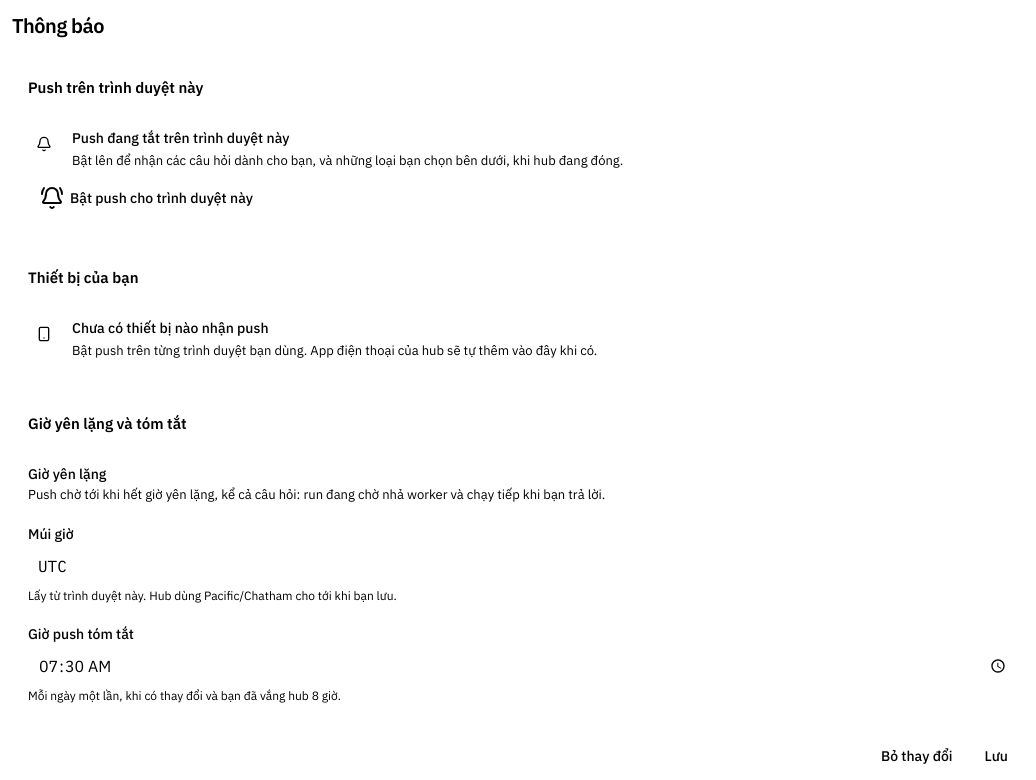
Scenario: push on this browser › asks again when the prompt was dismissed, and shows why a subscription failed
What coordinates should you click on to do the following:
click the button with test id "push-browser-on"
I would click on:
 (146, 198)
Its box is [28,182,265,214].
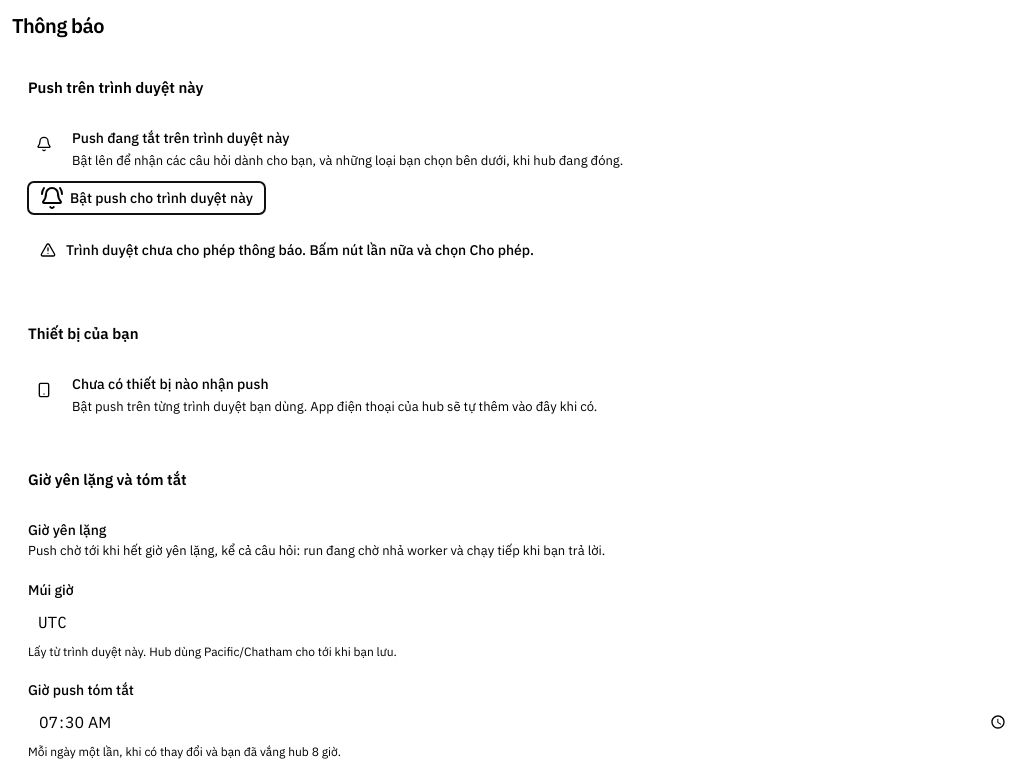
Now the message shows "Trình duyệt chưa cho phép thông báo", box [66,241,534,259]
What coordinates should you click on to do the following:
click the button with test id "push-browser-on"
I would click on:
 (146, 198)
Its box is [28,182,265,214].
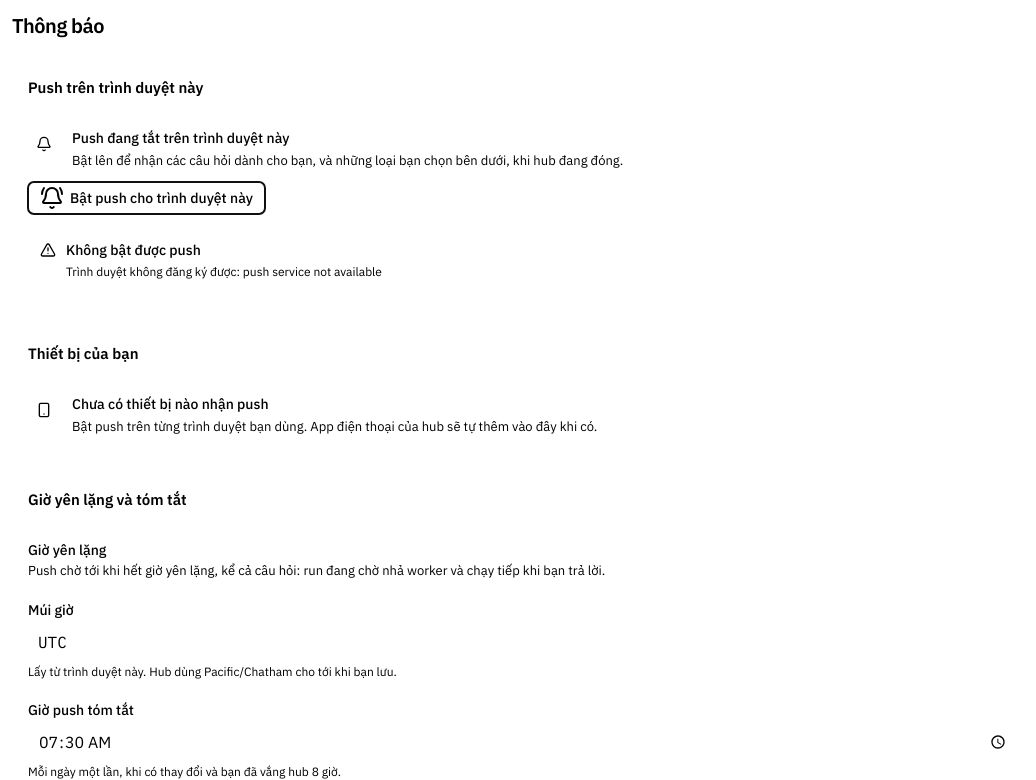
Now the text "Không bật được push" shows "Trình duyệt không đăng ký được: push service not available", box [66,264,382,279]
